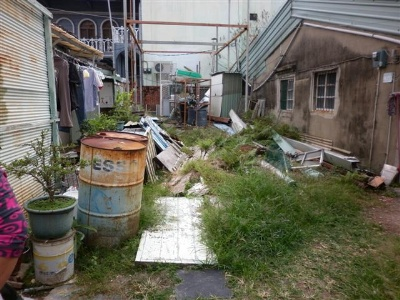bucket: (77, 135, 148, 251), (30, 227, 77, 286), (196, 110, 208, 127)
